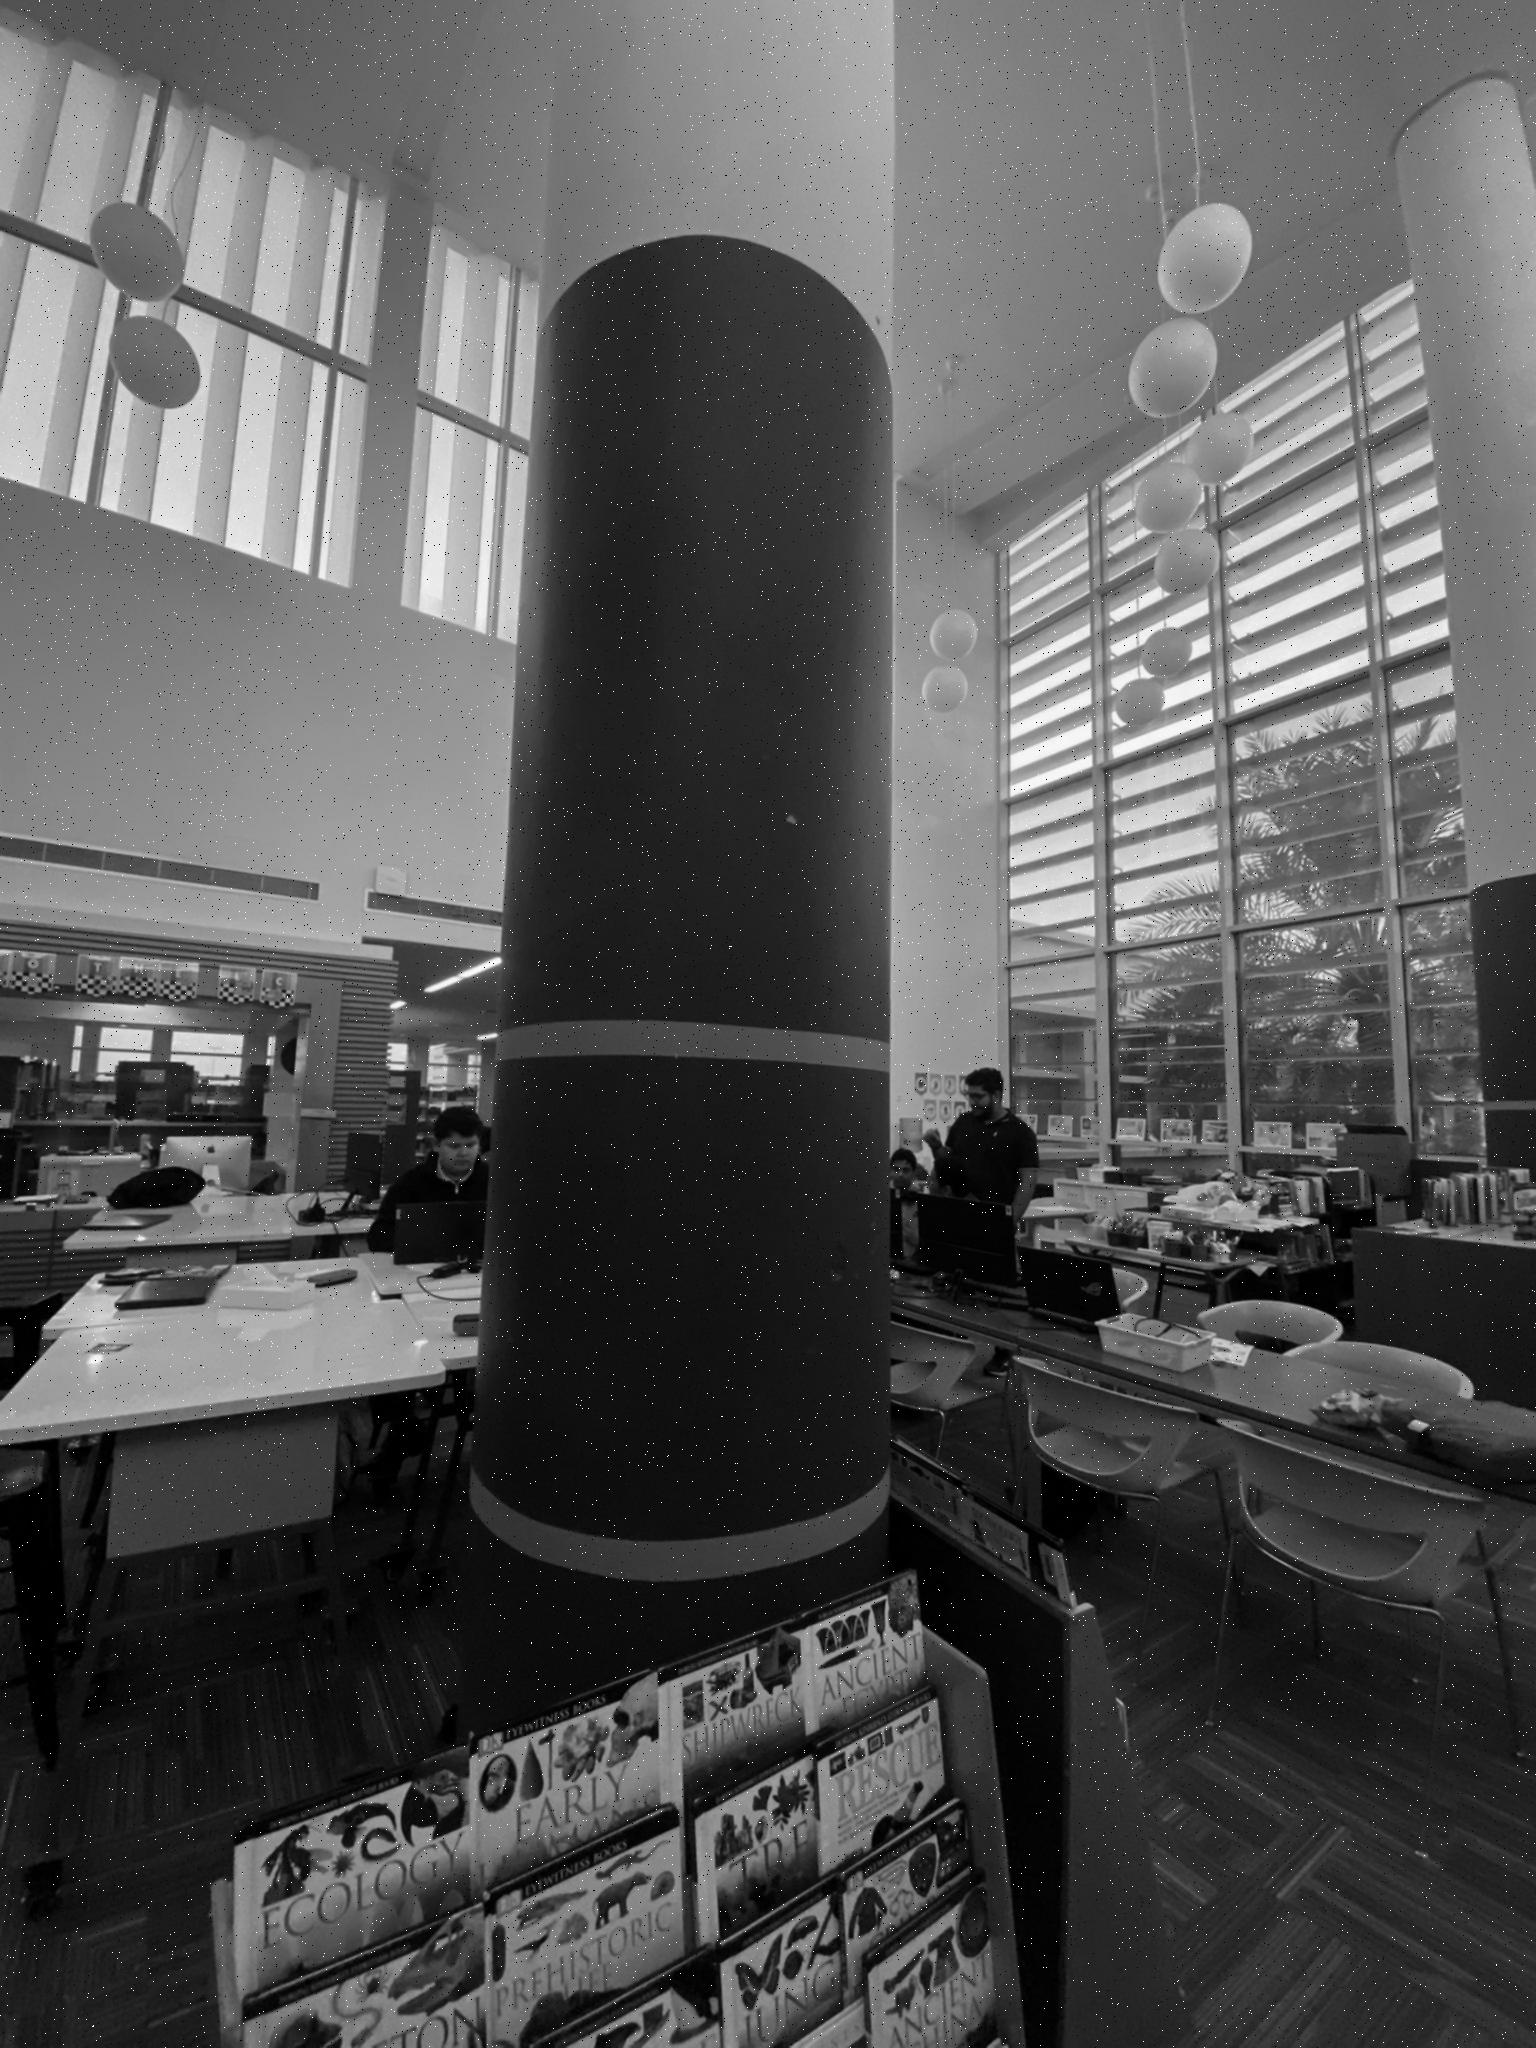Chair: (1221, 1422, 1518, 1853), (1021, 1359, 1229, 1672), (1199, 1268, 1341, 1350), (1291, 1340, 1475, 1400)
Pillar: (461, 0, 894, 1725), (1394, 76, 1534, 1166)
